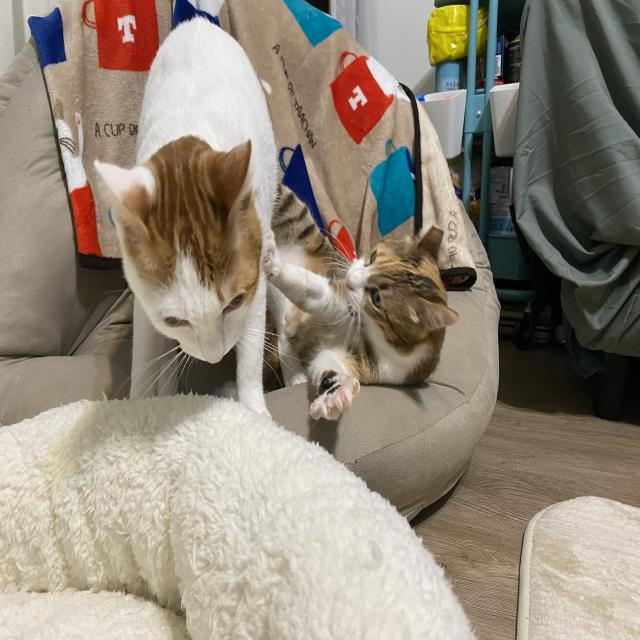cat1: (112, 14, 274, 427)
cat2: (266, 195, 447, 412)
